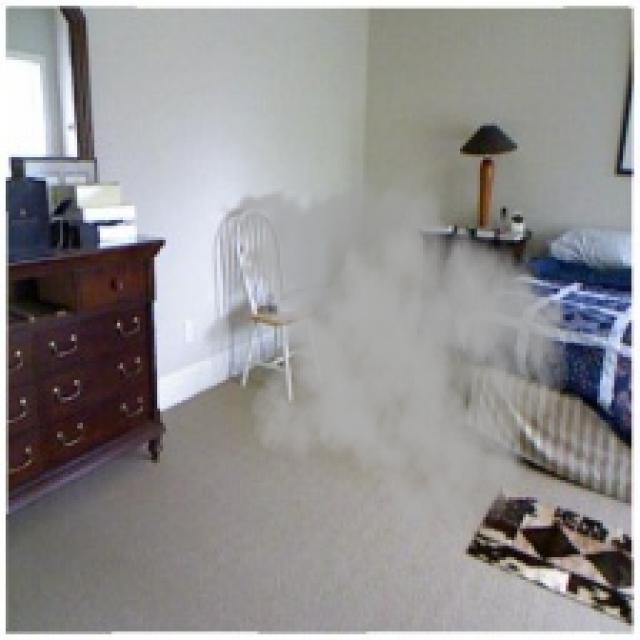smoke: (214, 168, 572, 543)
